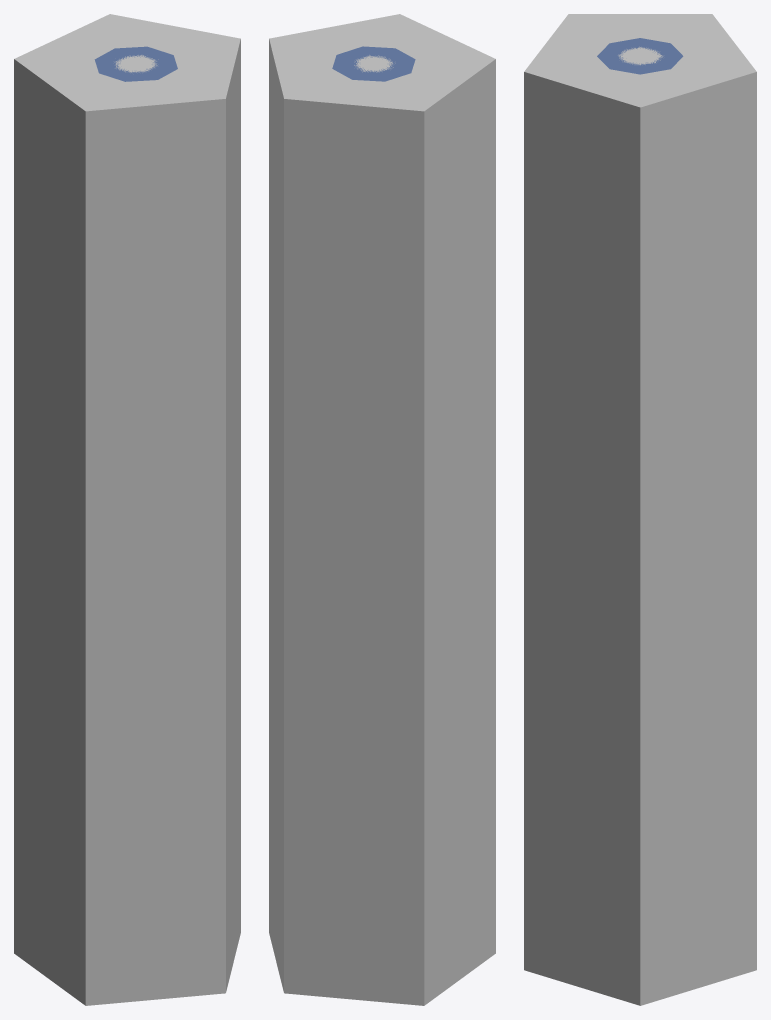
Rendered from SM_Light_Cylinder_03.fbx.
3 renders of one model, left to right at view 1: azimuth 30°, elevation 25°; view 2: azimuth 150°, elevation 25°; view 3: azimuth 270°, elevation 25°, orthographic.
Parts seen in each view (by area): view 1: SM_Light_Cylinder_03_ConvexHulls, SM_Light_Cylinder_03; view 2: SM_Light_Cylinder_03_ConvexHulls, SM_Light_Cylinder_03; view 3: SM_Light_Cylinder_03_ConvexHulls, SM_Light_Cylinder_03.
Boxes of the visible parts, x1,y1,x2,y2 form: SM_Light_Cylinder_03_ConvexHulls: (14,14,240,1005); SM_Light_Cylinder_03: (94,46,177,81); SM_Light_Cylinder_03_ConvexHulls: (269,14,495,1005); SM_Light_Cylinder_03: (332,46,415,81); SM_Light_Cylinder_03_ConvexHulls: (524,14,756,1005); SM_Light_Cylinder_03: (597,38,683,74).
Bounding box in the file's own units: 130 × 137 × 584.
